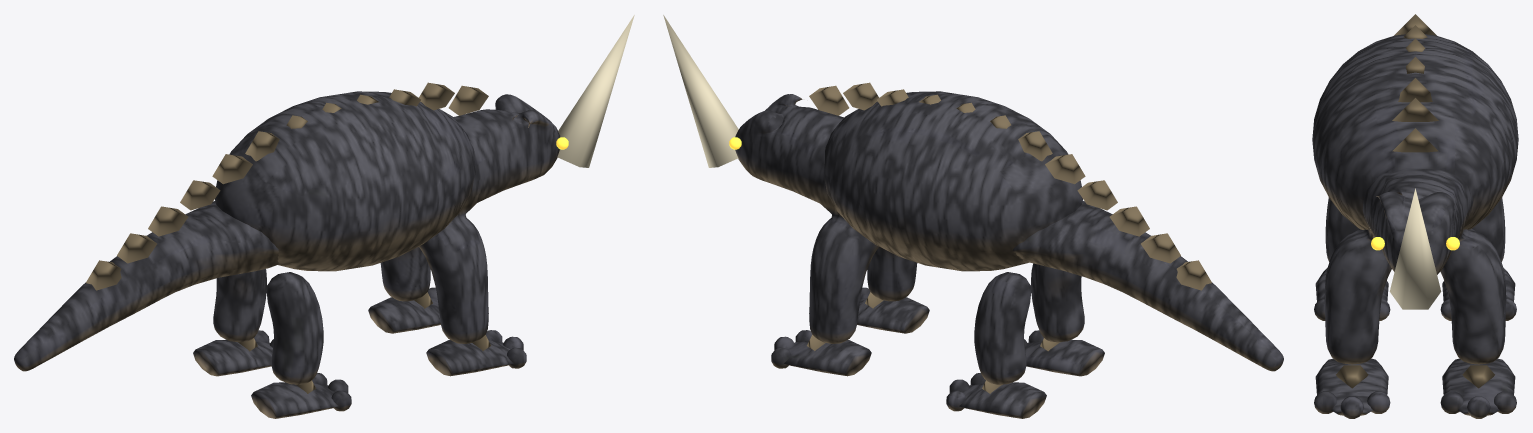
The model's file is emela-ntouka.glb.
3 renders of one model, left to right at view 1: azimuth 30°, elevation 25°; view 2: azimuth 150°, elevation 25°; view 3: azimuth 270°, elevation 25°, orthographic. The views are drawn at different scales.
Parts seen in each view (by area): view 1: emela-ntouka.001; view 2: emela-ntouka.001; view 3: emela-ntouka.001.
Part boxes in pixels (left/top/right/bottom): emela-ntouka.001: left=14, top=15, right=634, bottom=418; emela-ntouka.001: left=663, top=15, right=1283, bottom=418; emela-ntouka.001: left=1312, top=14, right=1518, bottom=418.
Bounding box in the file's own units: 3.32 × 1.46 × 0.88.
Materials: 4 (1 with a texture image).
